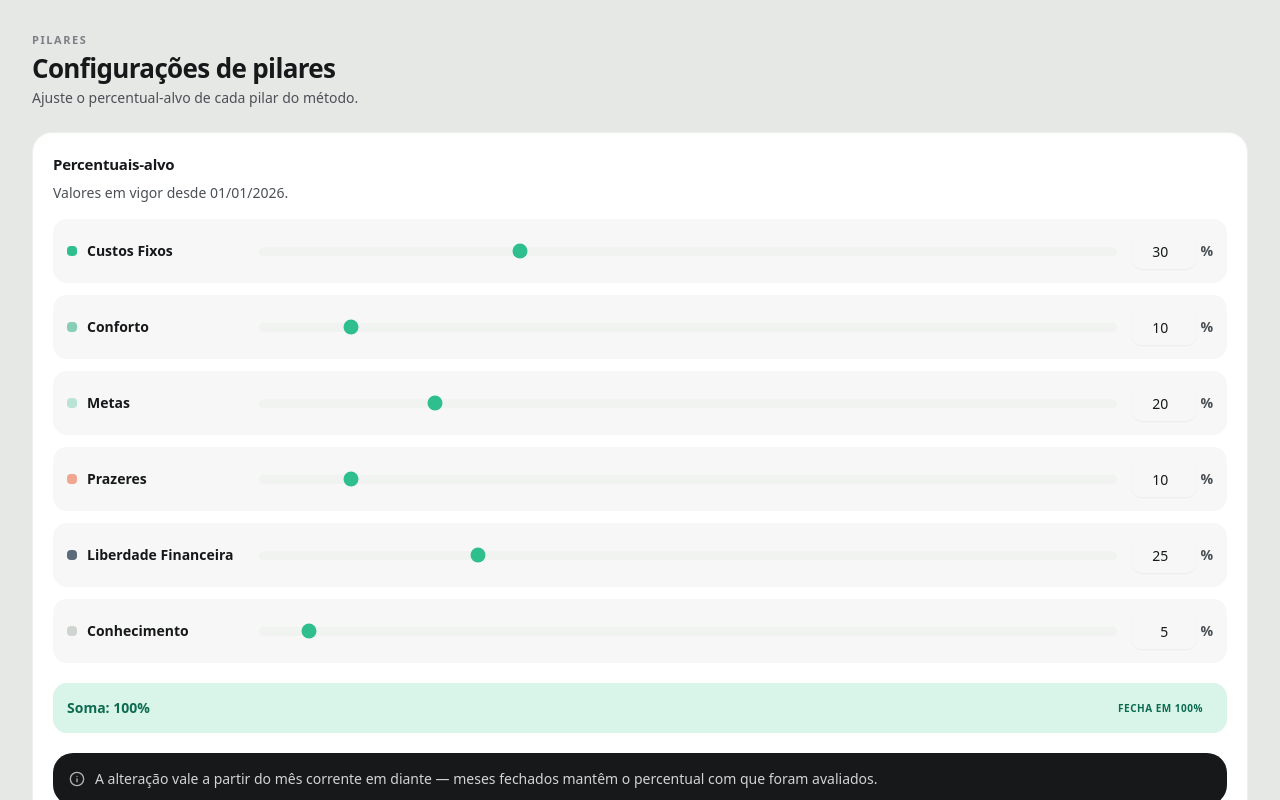
Scenario: PillarSettingsPage › saves a valid edit with the six pillars via PUT
# Move 5 points from Comfort to Goals — the sum stays 100.
Replace the text in the number field named "Conforto" in the row of "Conforto" with "5": {"x": 1164, "y": 327} [1132,309,1196,345]
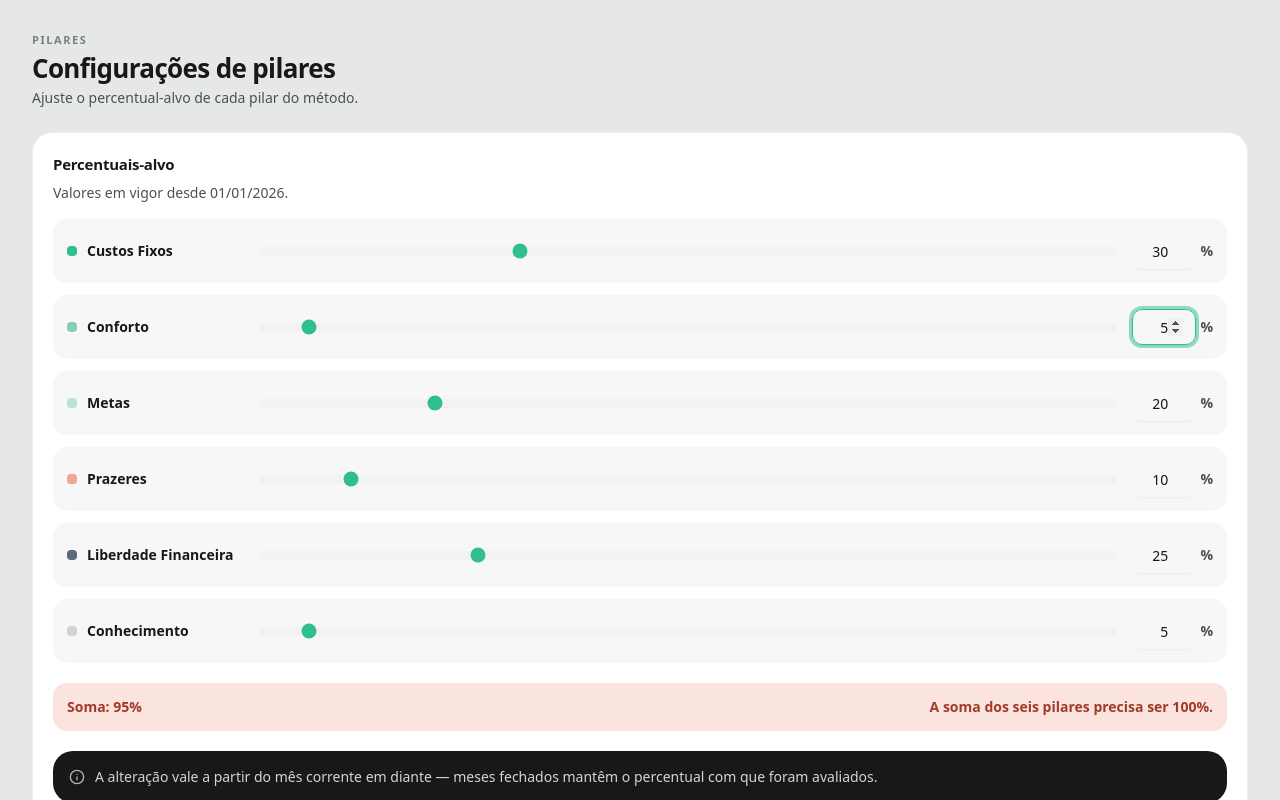
Replace the text in the number field named "Metas" in the row of "Metas" with "25": {"x": 1164, "y": 403} [1132,385,1196,421]
(page scrolled)
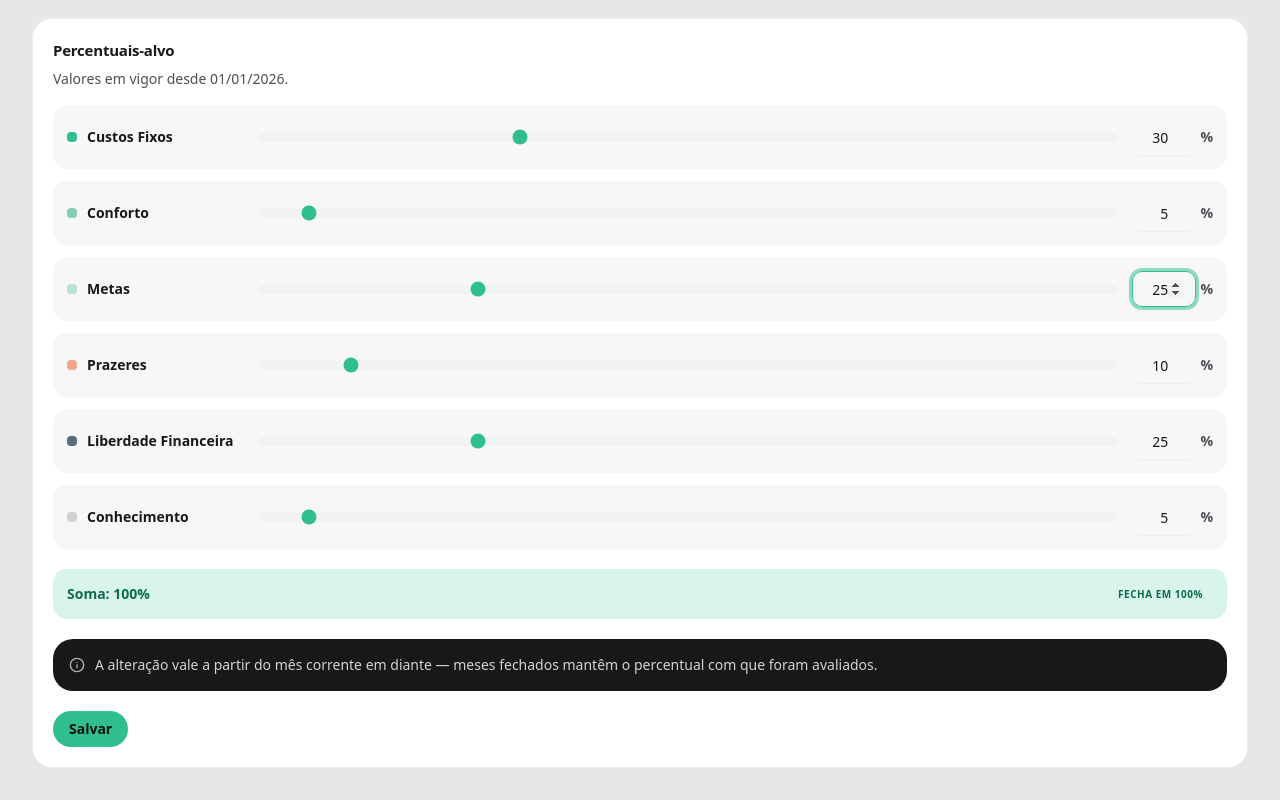
Check: the text "Soma: 100%" is shown, box [67,584,150,604]
Check: the button "Salvar" is enabled
Click the button "Salvar": {"x": 91, "y": 729} [53,711,128,747]
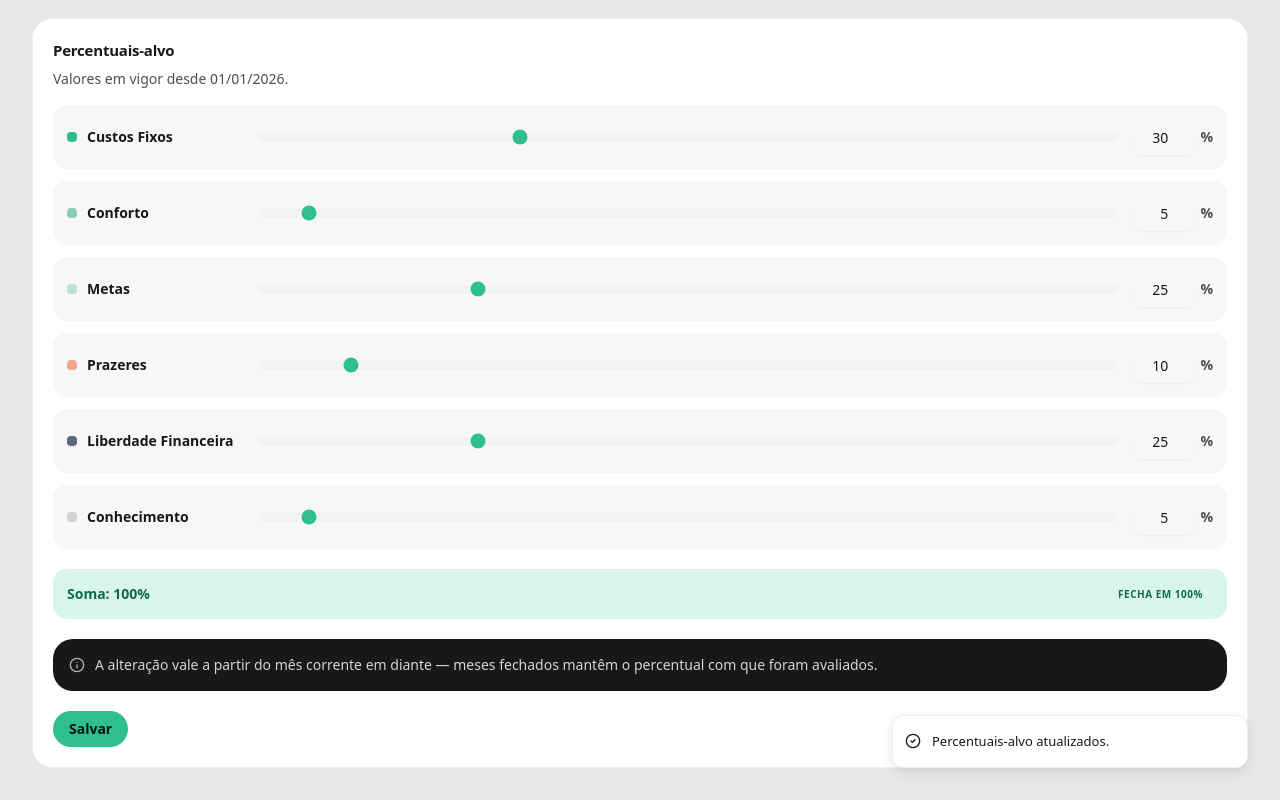
Check: the text "Percentuais-alvo atualizados." is shown, box [932,732,1109,751]
